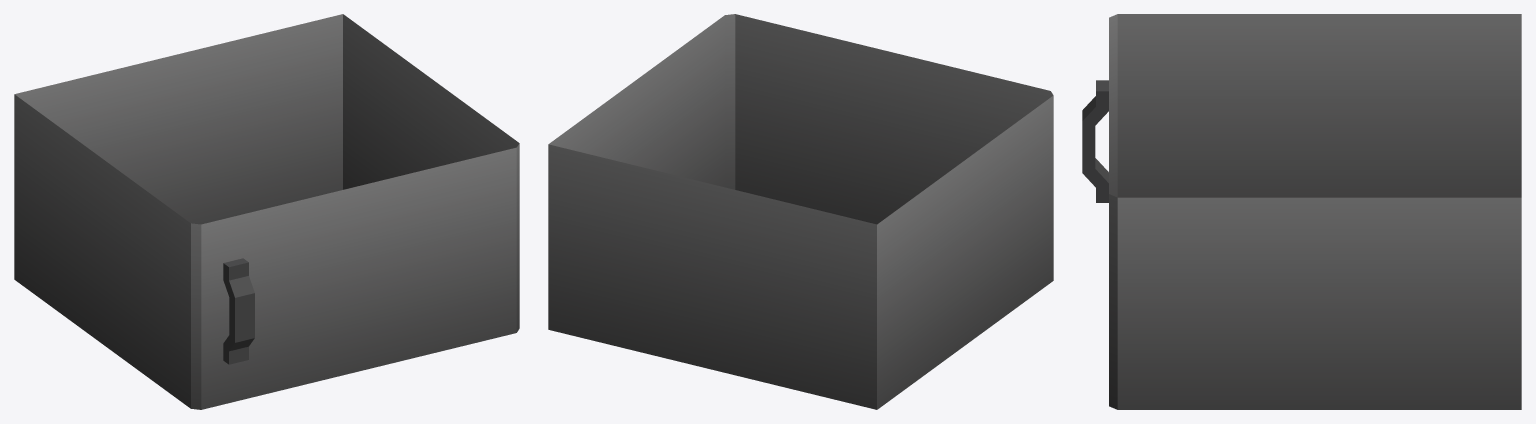
Rendered from Counter_01_v04.fbx.
The picture shows the model from 3 angles, left to right: view 1: azimuth 30°, elevation 25°; view 2: azimuth 150°, elevation 25°; view 3: azimuth 270°, elevation 25°; orthographic projection. The views are drawn at different scales.
Parts seen in each view (by area): view 1: Counter_01_v04; view 2: Counter_01_v04; view 3: Counter_01_v04.
Part boxes in pixels (bbox=[...]): Counter_01_v04: bbox=[14, 14, 519, 409]; Counter_01_v04: bbox=[548, 14, 1053, 409]; Counter_01_v04: bbox=[1082, 14, 1521, 409].
Size of the model in its own units: 100 by 53.91 by 101.
